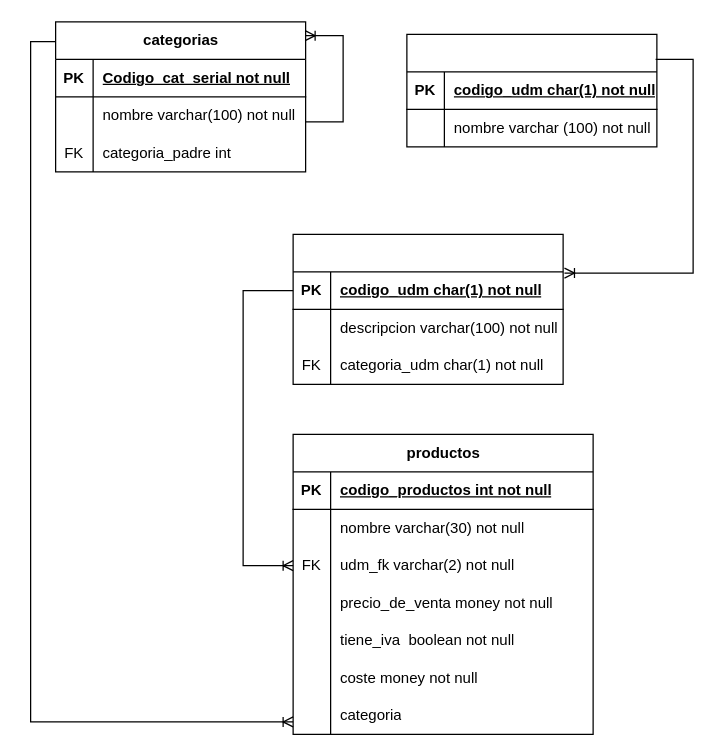
Image size: 725x756. Some labels were removed from this diagram. The shapes that lost their labels are listed below. From the top down, each one's box as (x1, y1, x2, y2) in pixels, then its label:
(406, 33, 657, 147): categorias_unidad_medida
(292, 233, 563, 384): unidades_medida
